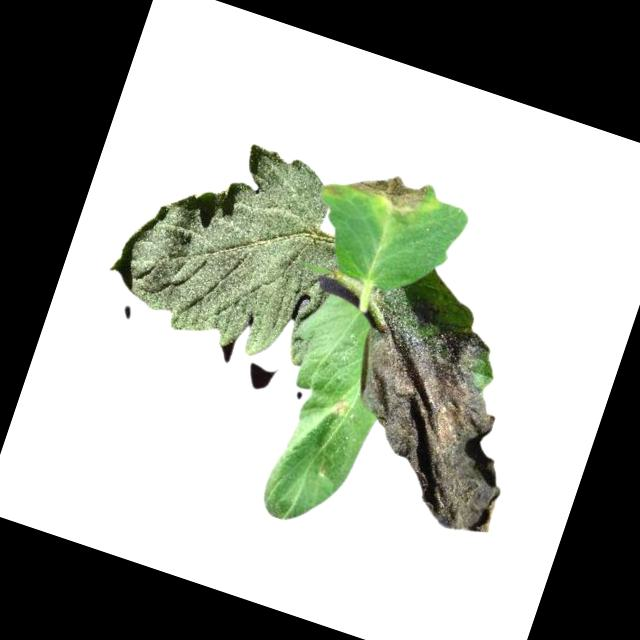Late_blight: (313, 282, 551, 543), (338, 158, 432, 221), (323, 396, 351, 424)
